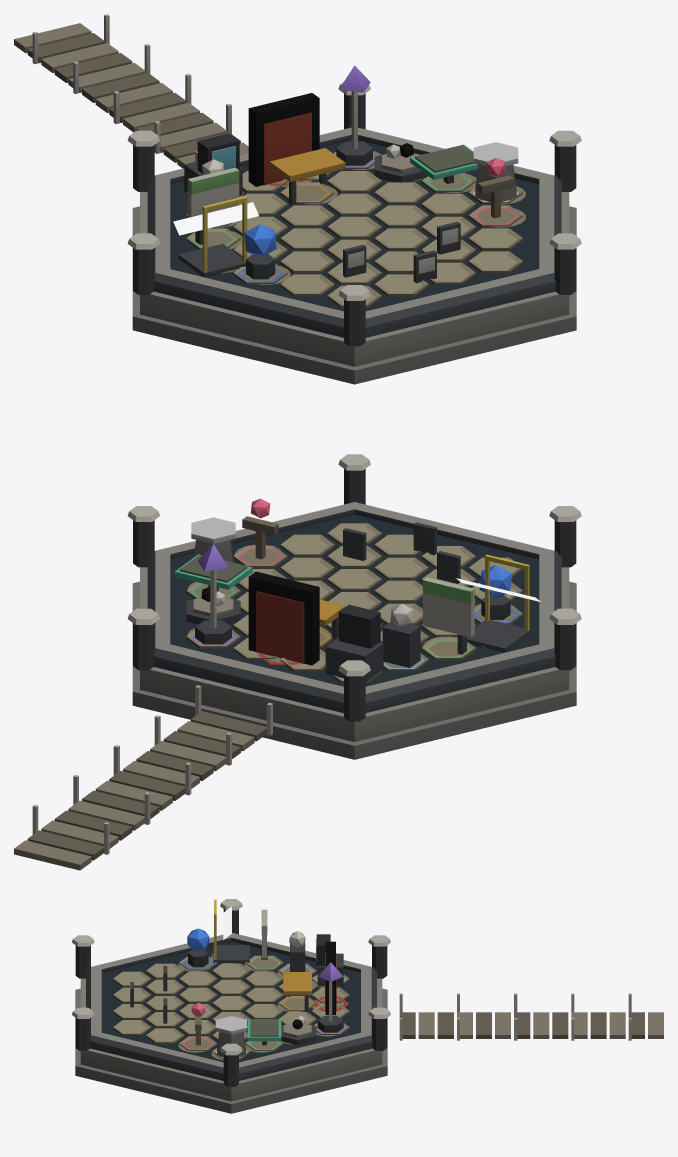
File: slab-hub.glb
3 views of the same model, one above another, from view 1: azimuth 30°, elevation 25°; view 2: azimuth 150°, elevation 25°; view 3: azimuth 270°, elevation 25° (orthographic). The views are drawn at different scales.
Parts seen in each view (by area): view 1: scene_ao_hub, scene_slab_hub, scene_hub_pier, scene_hub_prop_door, scene_hub_prop_lift, scene_hub_prop_calendar, scene_hub_prop_table, scene_hub_prop_crt, scene_hub_prop_map, scene_hub_prop_antenna, scene_hub_prop_podium, scene_hub_prop_globe (+32 smaller); view 2: scene_slab_hub, scene_ao_hub, scene_hub_pier, scene_hub_prop_door, scene_hub_prop_crt, scene_hub_prop_calendar, scene_hub_prop_lift, scene_hub_prop_robot, scene_hub_prop_antenna, scene_hub_prop_podium, scene_hub_post_3, scene_hub_post_1 (+21 smaller); view 3: scene_slab_hub, scene_ao_hub, scene_hub_pier, scene_hub_prop_podium, scene_hub_prop_map, scene_hub_prop_antenna, scene_hub_prop_lift, scene_hub_prop_arena, scene_hub_prop_table, scene_hub_prop_globe, scene_hub_post_0, scene_hub_post_1 (+25 smaller).
Part boxes in pixels (x1,y1,x2,y2): scene_ao_hub: (45,126,663,425); scene_slab_hub: (132,127,576,384); scene_hub_pier: (14,14,248,168); scene_hub_prop_door: (248,93,319,186); scene_hub_prop_lift: (178,196,247,277); scene_hub_prop_calendar: (187,167,239,244); scene_hub_prop_table: (269,148,345,205); scene_hub_prop_crt: (184,133,242,195); scene_hub_prop_map: (410,144,478,183); scene_hub_prop_antenna: (336,65,372,165); scene_hub_prop_podium: (473,142,518,201); scene_hub_prop_globe: (244,224,276,279); scene_slab_hub: (132,502,576,759); scene_ao_hub: (45,502,663,800); scene_hub_pier: (14,685,272,870); scene_hub_prop_door: (248,571,319,665); scene_hub_prop_crt: (325,604,383,683); scene_hub_prop_calendar: (423,577,474,654); scene_hub_prop_lift: (467,554,530,652); scene_hub_prop_robot: (382,603,420,667); scene_hub_prop_antenna: (195,544,231,644); scene_hub_prop_podium: (191,517,235,562); scene_hub_post_3: (549,608,581,670); scene_hub_post_1: (127,608,159,670); scene_slab_hub: (75,933,387,1113); scene_ao_hub: (14,932,448,1142); scene_hub_pier: (399,993,663,1040); scene_hub_prop_podium: (215,1016,246,1057); scene_hub_prop_map: (247,1019,281,1045); scene_hub_prop_antenna: (317,962,343,1032); scene_hub_prop_lift: (213,899,249,962); scene_hub_prop_arena: (281,1015,316,1045); scene_hub_prop_table: (283,972,311,1011); scene_hub_prop_globe: (187,928,209,967); scene_hub_post_0: (220,1043,242,1086); scene_hub_post_1: (368,1007,390,1050).
Size of the model in its own units: 13.14 by 3.28 by 17.01.
